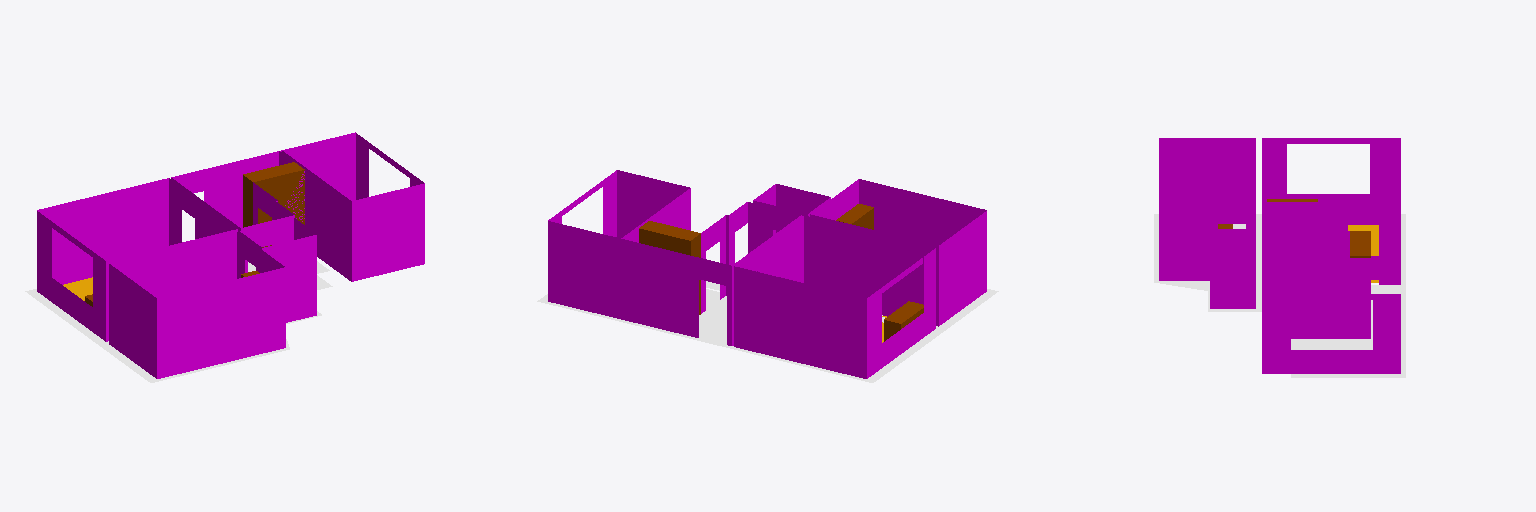
File: byt_v1.obj
3 views of the same model, side by side, from view 1: azimuth 30°, elevation 25°; view 2: azimuth 150°, elevation 25°; view 3: azimuth 270°, elevation 25° (orthographic).
Parts seen in each view (by area): view 1: Mesh9 Component_12 Model, Mesh8 Component_11 Model, Mesh13 Component_14 Model, Mesh14 Component_17 Model, Mesh12 Component_13 Model, Mesh18 Model, Mesh5 Component_3 Model, Mesh15 Component_16 Model, Mesh6 Component_5 Model; view 2: Mesh8 Component_11 Model, Mesh14 Component_17 Model, Mesh9 Component_12 Model, Mesh13 Component_14 Model, Mesh18 Model, Mesh15 Component_16 Model, Mesh12 Component_13 Model, Mesh2 Component_7 Model, Mesh3 Component_1 Model, Mesh11 Component_9 Model, Mesh6 Component_5 Model; view 3: Mesh13 Component_14 Model, Mesh9 Component_12 Model, Mesh8 Component_11 Model, Mesh12 Component_13 Model, Mesh17 Component_15 Model, Mesh18 Model, Mesh15 Component_16 Model, Mesh6 Component_5 Model.
Part boxes in pixels (x1,y1,x2,y2): Mesh9 Component_12 Model: (109, 232, 285, 378); Mesh8 Component_11 Model: (37, 178, 237, 341); Mesh13 Component_14 Model: (282, 133, 424, 281); Mesh14 Component_17 Model: (171, 132, 355, 227); Mesh12 Component_13 Model: (239, 218, 316, 322); Mesh18 Model: (25, 261, 332, 382); Mesh5 Component_3 Model: (254, 170, 304, 247); Mesh15 Component_16 Model: (241, 182, 294, 244); Mesh6 Component_5 Model: (243, 162, 304, 181); Mesh8 Component_11 Model: (734, 215, 935, 378); Mesh14 Component_17 Model: (548, 221, 731, 345); Mesh9 Component_12 Model: (810, 179, 986, 326); Mesh13 Component_14 Model: (548, 170, 690, 238); Mesh18 Model: (537, 281, 998, 382); Mesh15 Component_16 Model: (701, 202, 800, 313); Mesh12 Component_13 Model: (753, 184, 830, 237); Mesh2 Component_7 Model: (884, 301, 923, 341); Mesh3 Component_1 Model: (639, 229, 690, 255); Mesh11 Component_9 Model: (836, 204, 873, 229); Mesh6 Component_5 Model: (639, 221, 700, 240); Mesh13 Component_14 Model: (1262, 258, 1400, 373); Mesh9 Component_12 Model: (1159, 138, 1255, 280); Mesh8 Component_11 Model: (1262, 138, 1400, 203); Mesh12 Component_13 Model: (1210, 202, 1255, 308); Mesh17 Component_15 Model: (1262, 204, 1400, 284); Mesh18 Model: (1154, 214, 1405, 377); Mesh15 Component_16 Model: (1262, 230, 1349, 257); Mesh6 Component_5 Model: (1350, 231, 1370, 255).
Size of the model in its own units: 11.3 by 2.6 by 7.33.